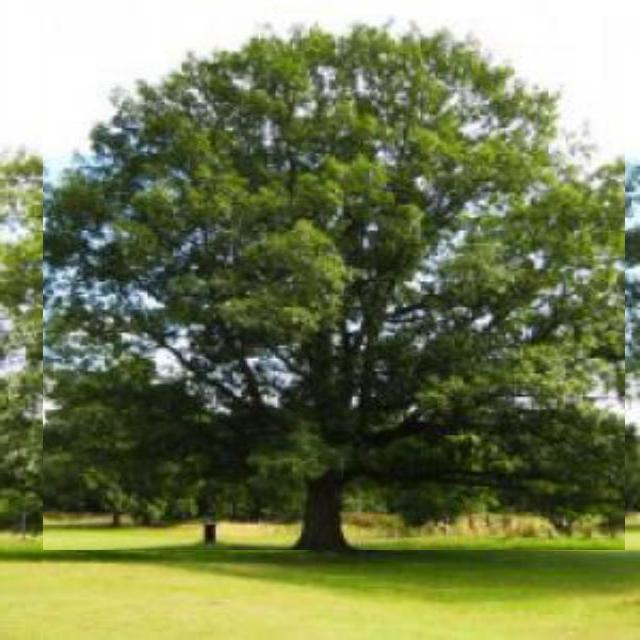tree: (43, 14, 625, 550)
